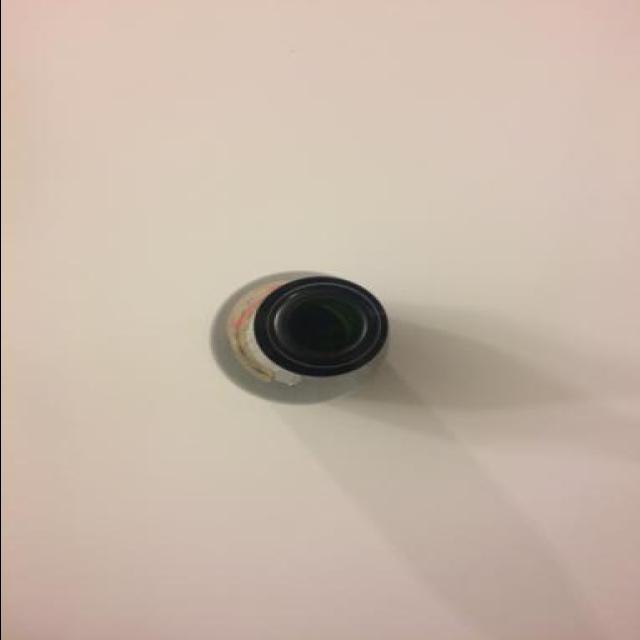glass: (194, 264, 422, 430)
